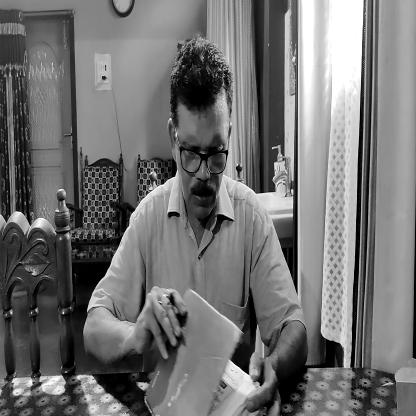Normal: (168, 39, 230, 219)
